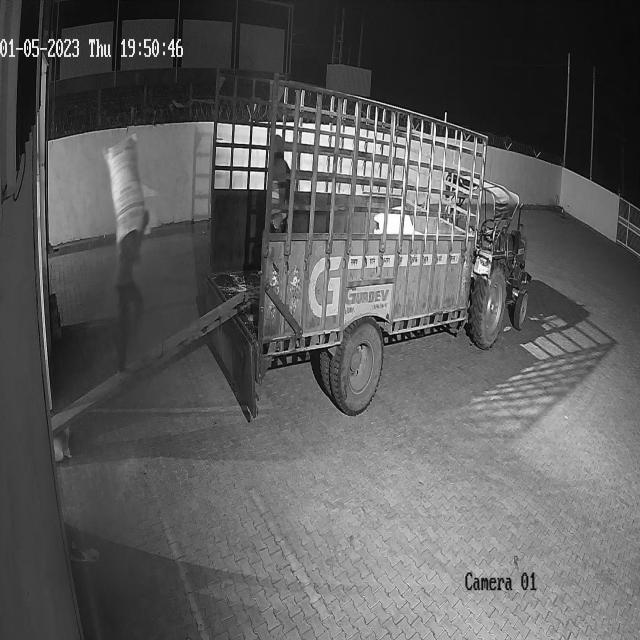sack: (103, 134, 146, 245)
